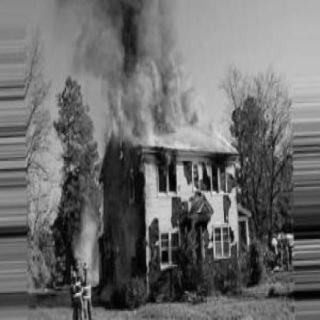Fire: (106, 52, 186, 170)
Smoke: (80, 1, 181, 74)
